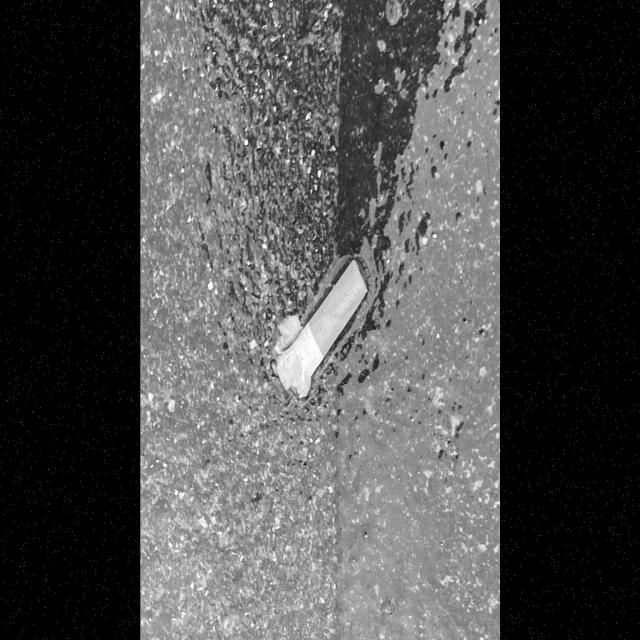other waste: (274, 257, 370, 401)
